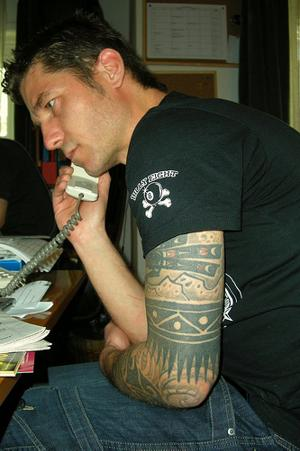person: (7, 6, 300, 450)
